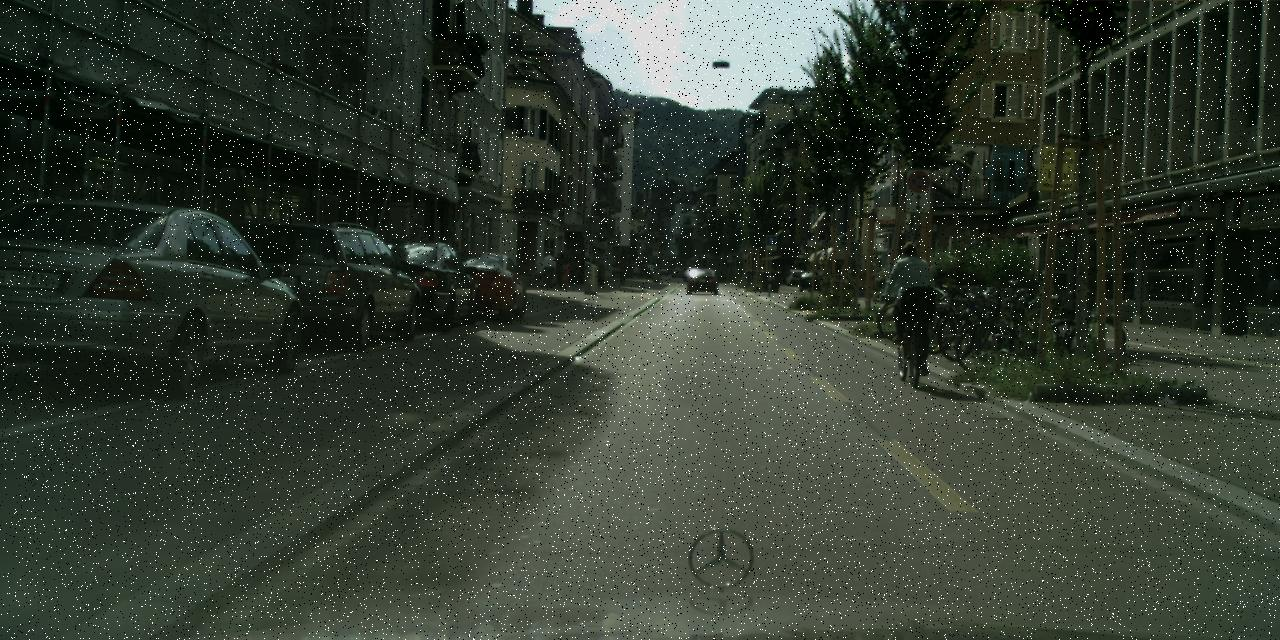ped: (888, 240, 934, 354), (542, 251, 556, 287), (552, 254, 565, 287), (560, 258, 572, 288), (617, 259, 627, 284)
